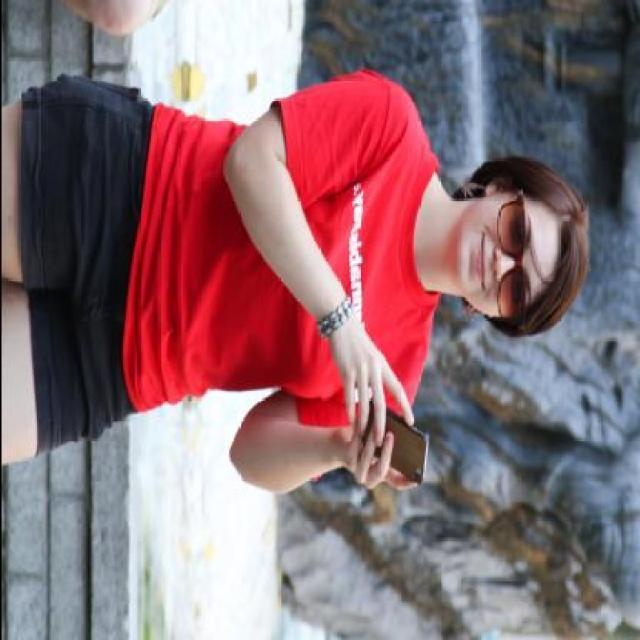phone: (357, 400, 428, 489)
